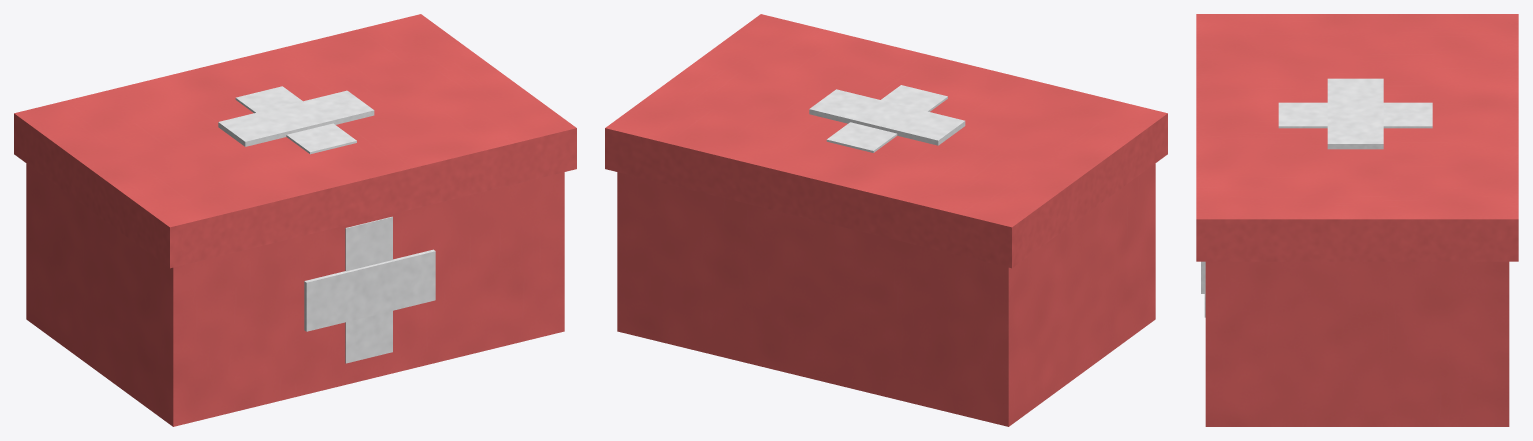
File: 12_medkit.glb
3 views of the same model, side by side, from view 1: azimuth 30°, elevation 25°; view 2: azimuth 150°, elevation 25°; view 3: azimuth 270°, elevation 25° (orthographic). The views are drawn at different scales.
Parts seen in each view (by area): view 1: part_2, part_3, part_3.001; view 2: part_2, part_3.001; view 3: part_2, part_3.001.
Part boxes in pixels (box(x1,y1,x2,y2)): part_2: box(14, 14, 576, 426); part_3: box(304, 216, 435, 363); part_3.001: box(218, 86, 374, 154); part_2: box(605, 14, 1167, 426); part_3.001: box(809, 85, 965, 152); part_2: box(1196, 14, 1518, 426); part_3.001: box(1278, 78, 1432, 149).
Size of the model in its own units: 1.04 by 0.5126 by 0.69.
6 materials, 6 textured.
